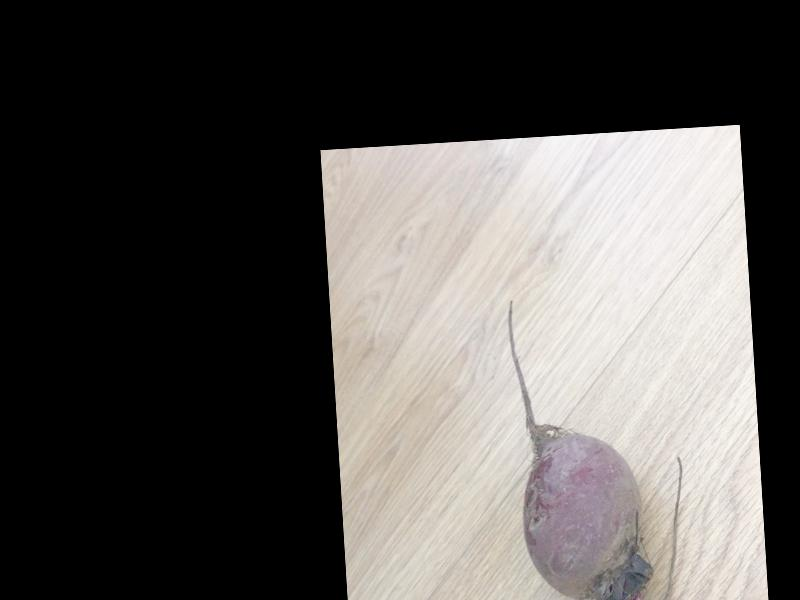Beet: (506, 290, 691, 600)
